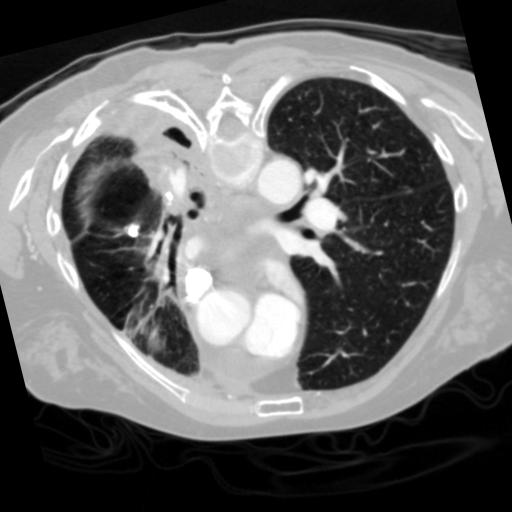nodule: (122, 223, 143, 244)
